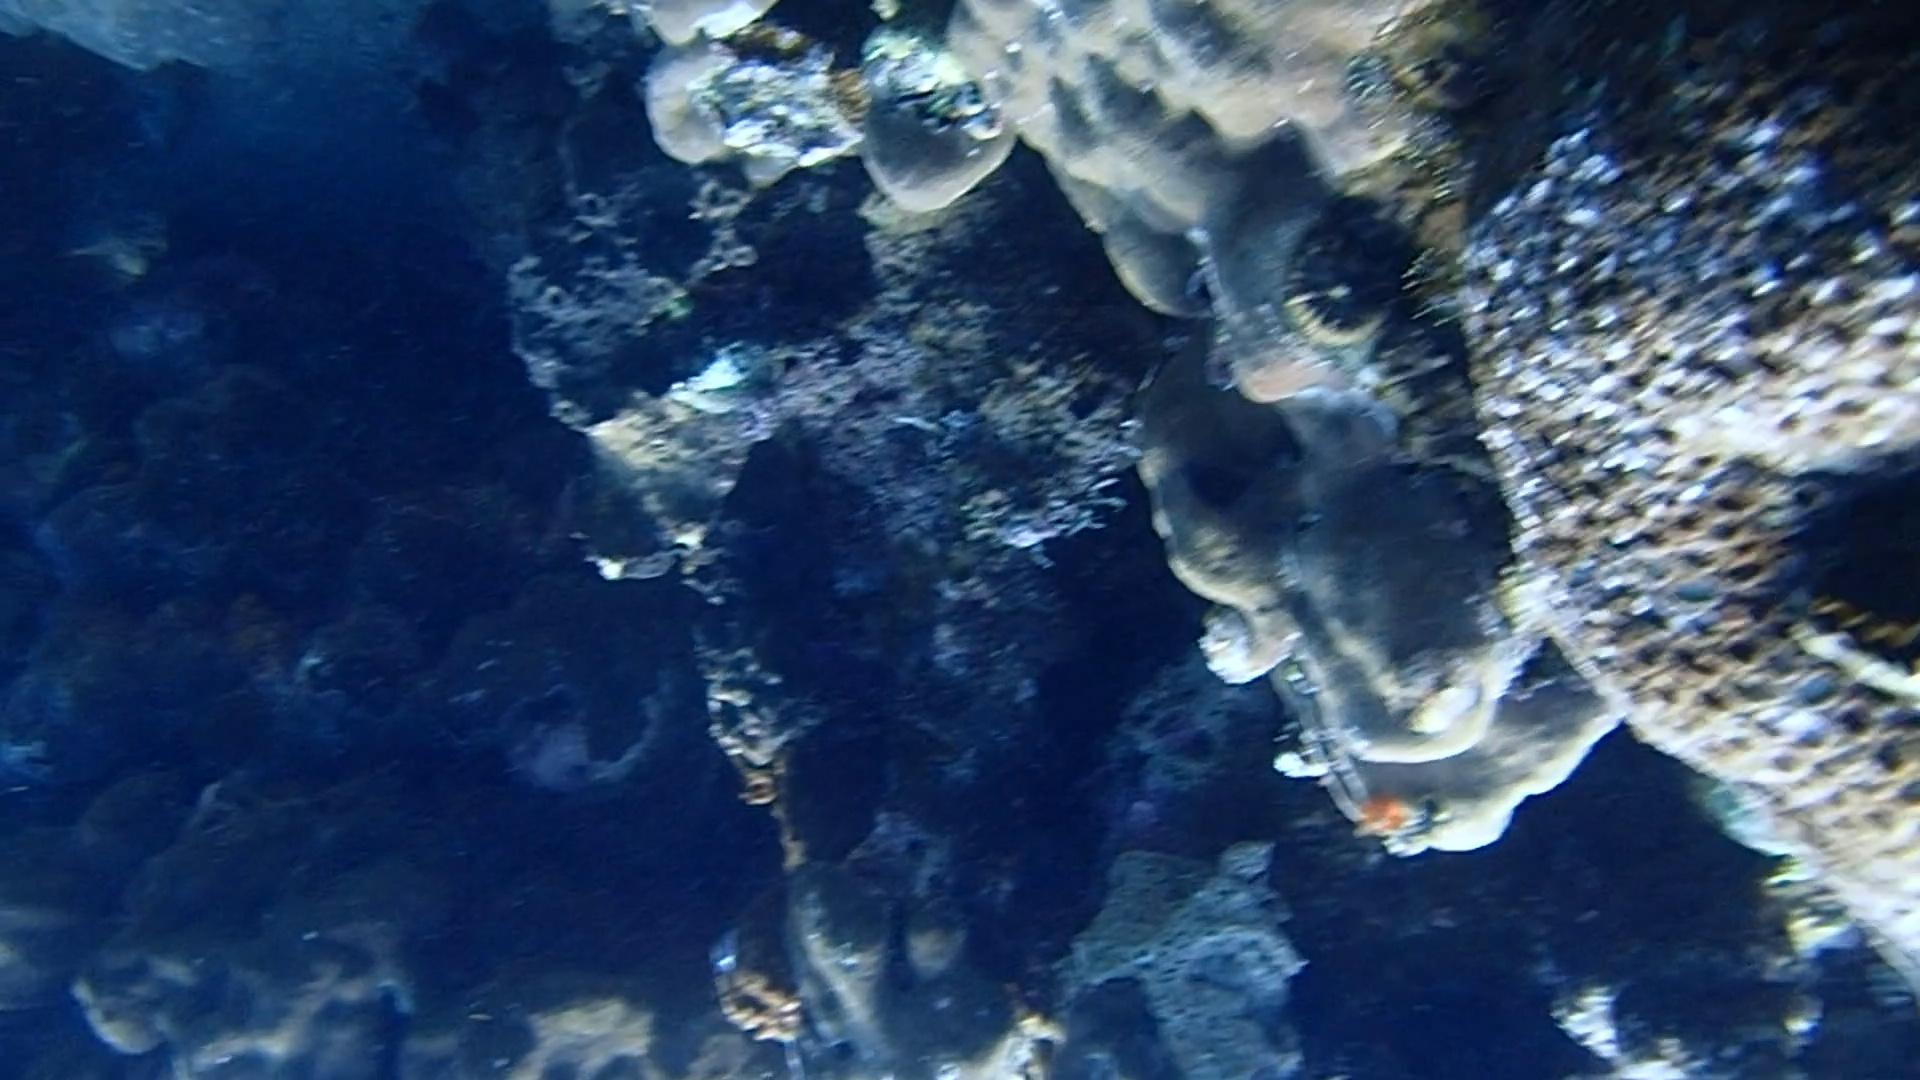Dark Fish: (1175, 452, 1253, 529), (1059, 367, 1134, 431)
